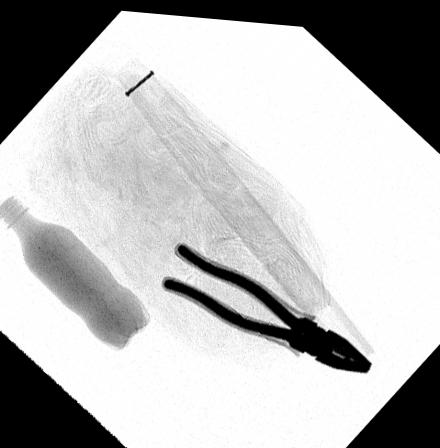Pliers: (162, 241, 371, 368)
